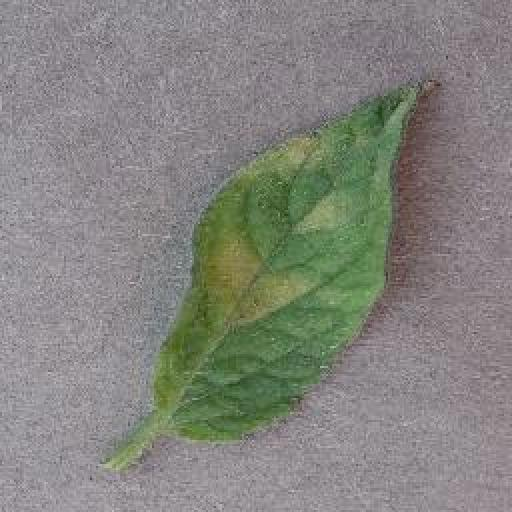disease_tomato: (152, 80, 430, 444)
